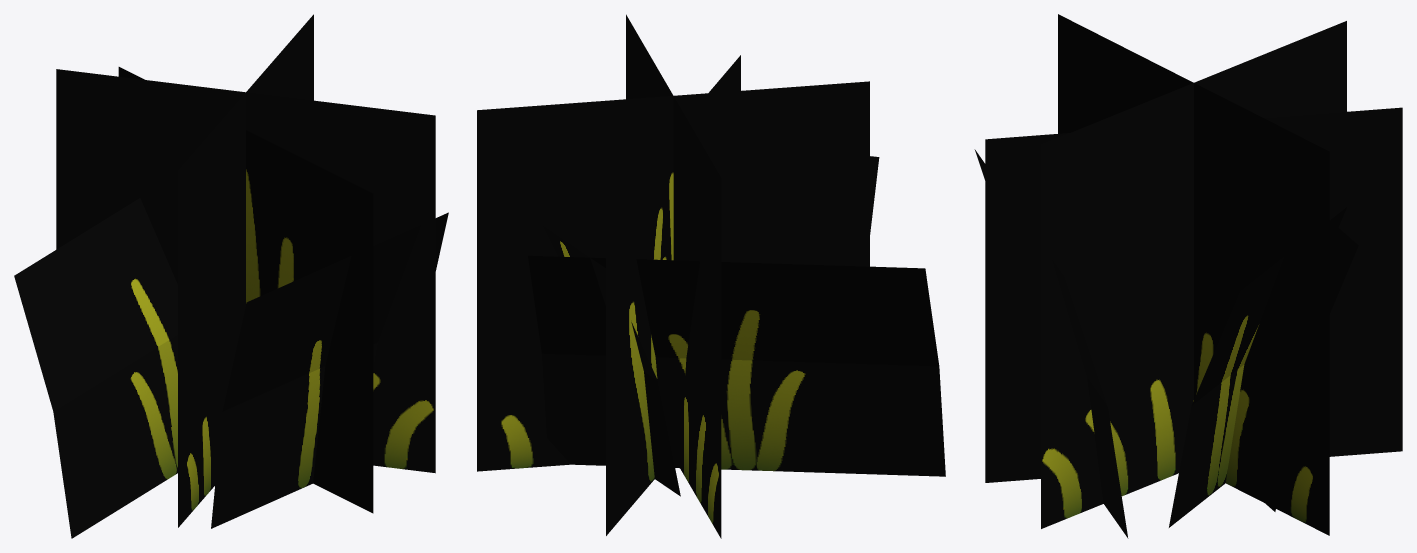
Rendered from grass_1.fbx.
3 views of the same model, side by side, from view 1: azimuth 30°, elevation 25°; view 2: azimuth 150°, elevation 25°; view 3: azimuth 270°, elevation 25° (orthographic). The views are drawn at different scales.
Visible parts, largest first — view 1: Grass; view 2: Grass; view 3: Grass.
Part boxes in pixels (x1,y1,x2,y2): Grass: [14, 14, 448, 538]; Grass: [477, 14, 945, 538]; Grass: [974, 14, 1402, 538].
Size of the model in its own units: 231 by 200 by 202.
